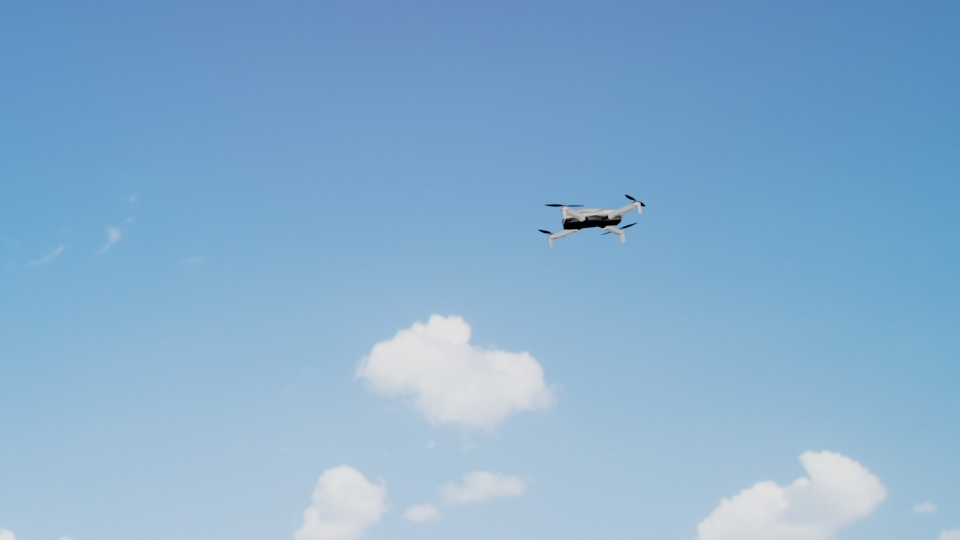drone: (539, 189, 648, 248)
